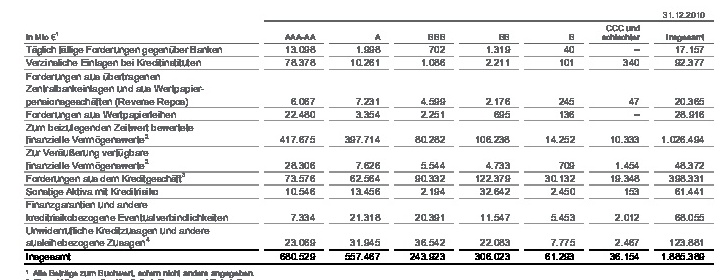table: (0, 0, 728, 280)
